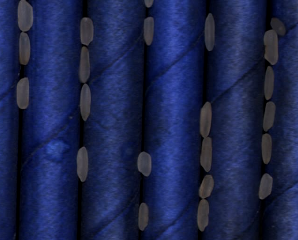broken_grain: (197, 173, 217, 201)
complete_grain: (262, 27, 279, 66), (75, 145, 91, 186), (204, 12, 221, 50), (197, 99, 213, 138), (200, 136, 216, 172), (196, 197, 211, 234), (78, 83, 92, 122), (17, 1, 34, 32), (15, 76, 30, 110), (261, 100, 276, 133), (261, 66, 275, 101), (79, 45, 91, 85), (257, 173, 273, 202), (136, 150, 153, 177), (79, 16, 94, 44), (260, 133, 273, 165), (136, 202, 149, 231), (143, 17, 155, 46)
yellow_grain: (17, 32, 33, 69)
